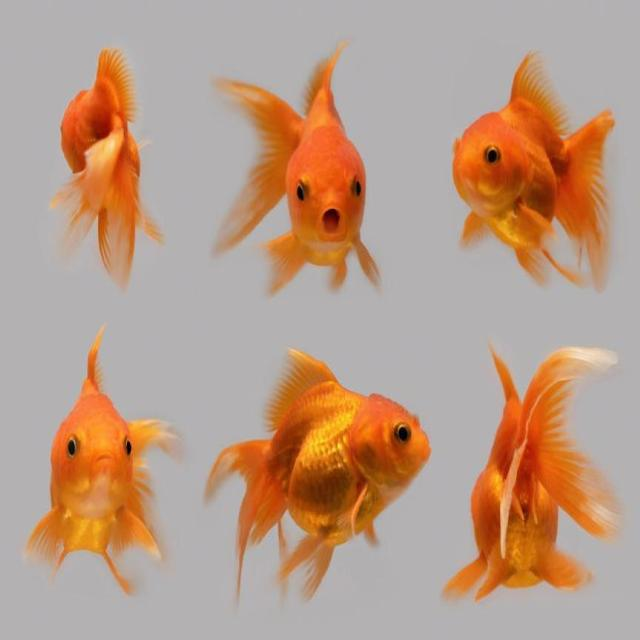GoldFish: (201, 348, 430, 608), (440, 343, 623, 623), (21, 320, 183, 610), (206, 36, 386, 294), (450, 50, 625, 289), (48, 38, 160, 292)
